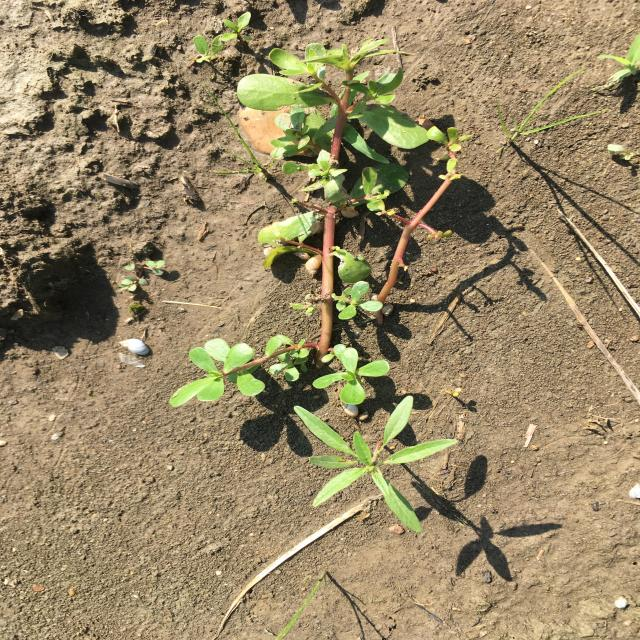Purslane: (168, 38, 477, 410)
Waterhemp: (292, 394, 461, 534)
